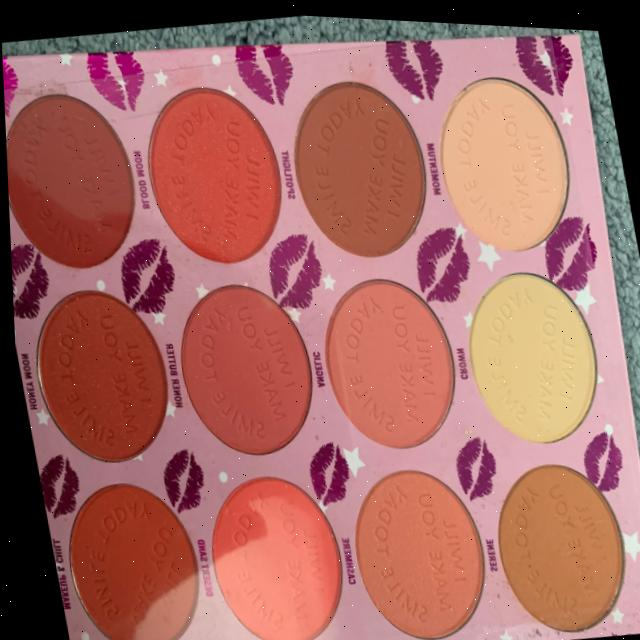blush: (112, 56, 369, 640)
bronzer: (269, 54, 477, 456), (332, 426, 631, 640)
eye shade: (2, 64, 219, 640)
powder: (416, 49, 592, 274), (453, 260, 609, 450)
